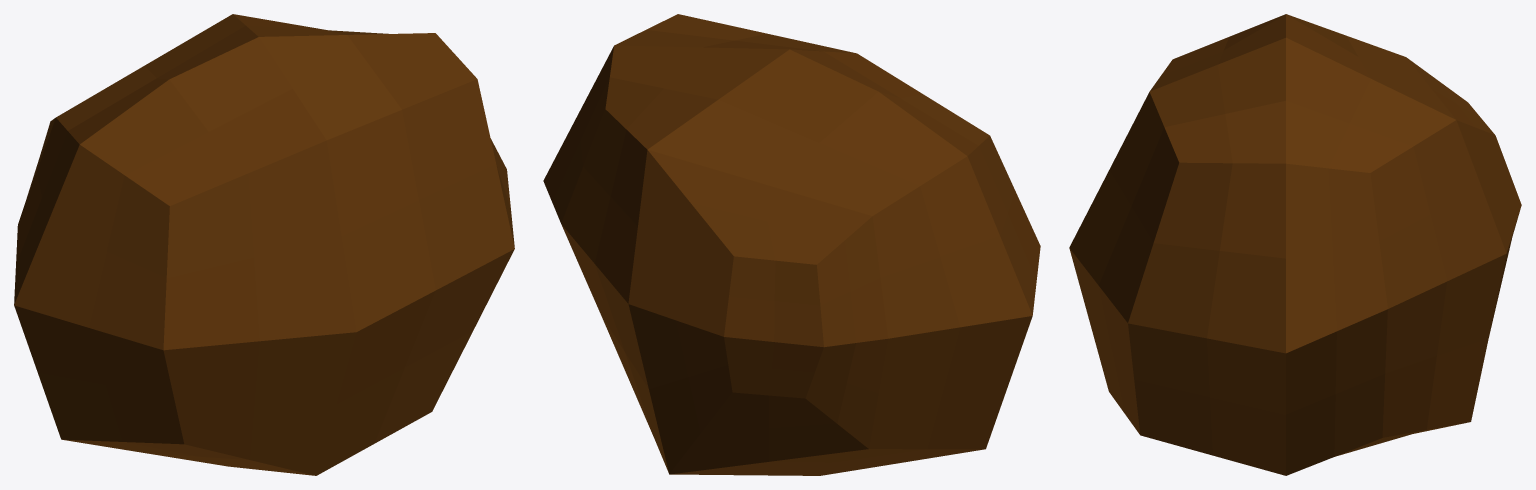
The model's file is asteroid_4.fbx.
The picture shows the model from 3 angles, left to right: view 1: azimuth 30°, elevation 25°; view 2: azimuth 150°, elevation 25°; view 3: azimuth 270°, elevation 25°; orthographic projection.
Parts seen in each view (by area): view 1: Cube.001; view 2: Cube.001; view 3: Cube.001.
Part boxes in pixels (box(x1,y1,x2,y2)): Cube.001: box(14, 14, 514, 475); Cube.001: box(543, 14, 1040, 475); Cube.001: box(1069, 14, 1521, 475).
Bounding box in the file's own units: 1273 × 1041 × 1006.
